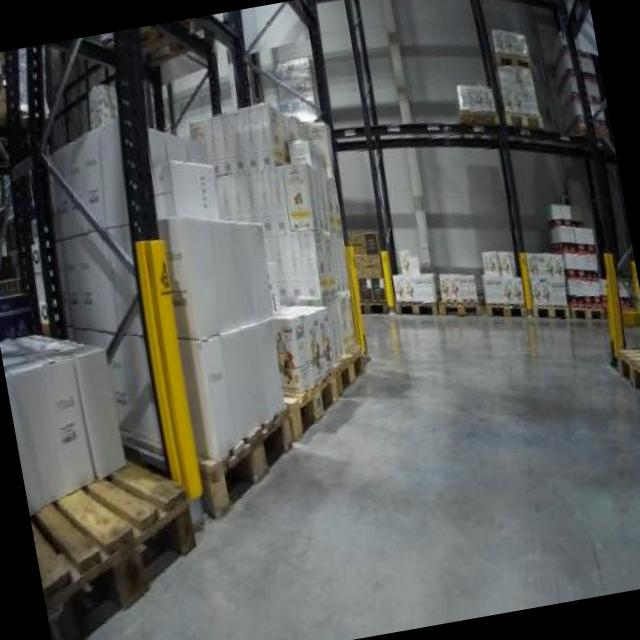pallet: (29, 484, 219, 640), (283, 345, 384, 441), (208, 407, 302, 491), (602, 341, 640, 393), (396, 288, 444, 328), (478, 300, 531, 329), (540, 296, 573, 328), (358, 290, 388, 322)
